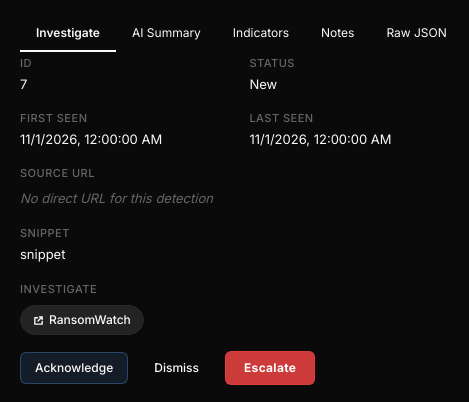
Test: DetectionDetail AI tab › sends one request per click and caches the result across tab switches
The image size is (469, 402).
Click the button "AI Summary" at (166, 34), box [116,16,217,52]
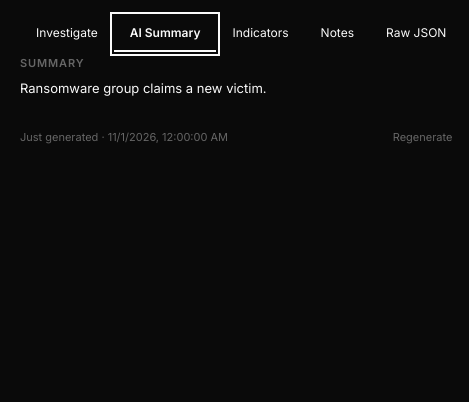
Now the text "Ransomware group claims a new victim." is shown, box [20,80,267,96]
Click the button "Investigate" at (67, 34), box [20,16,114,52]
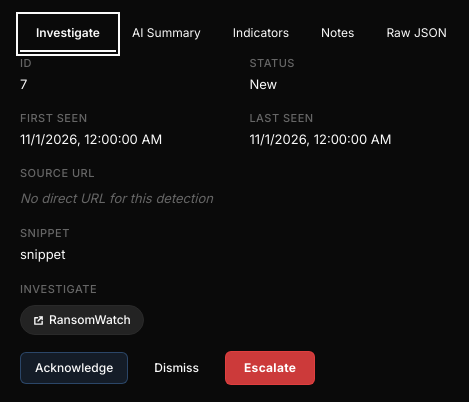
Click the button "AI Summary" at (166, 34), box [116,16,217,52]
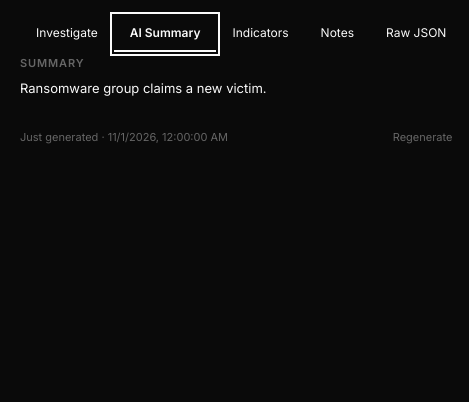
Now the text "Ransomware group claims a new victim." is shown, box [20,80,267,96]
